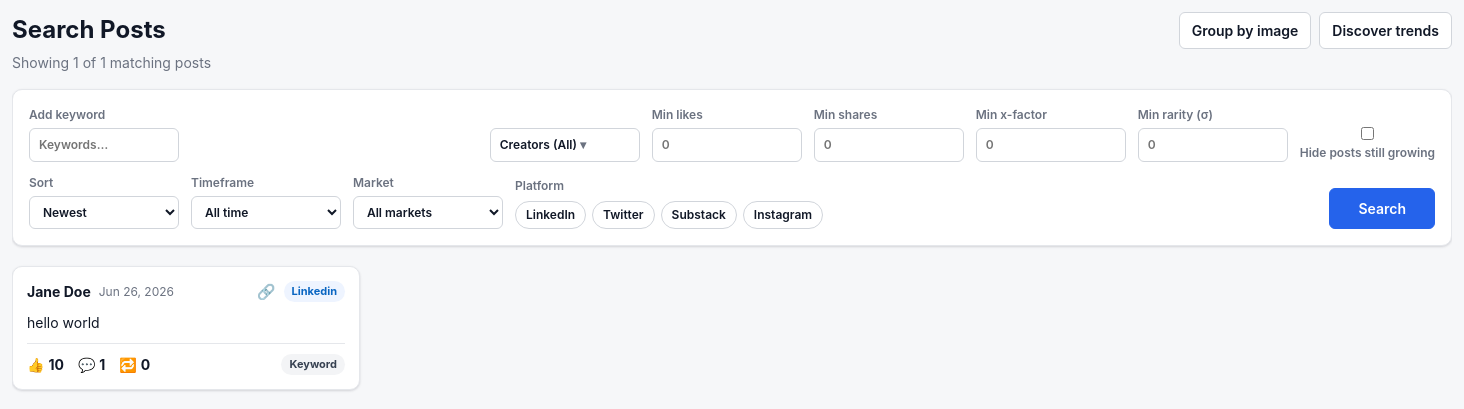
Test: DashboardClient › switches into image-group mode, shows the slider + score + the grouped posts
The image size is (1464, 409).
Click the button "Group by image": (1245, 30) [1179,12,1311,49]
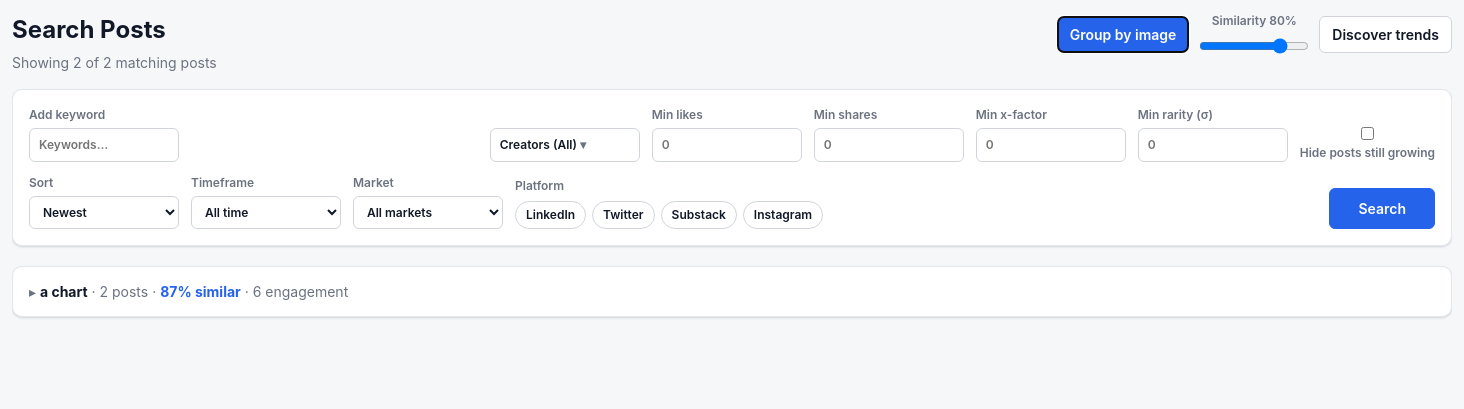
Check: the text "a chart" is shown, box [40,283,88,300]
Check: the text "87% similar" is shown, box [160,283,241,300]
Check: the label named "image similarity threshold" is shown, box [1197,12,1311,56]
